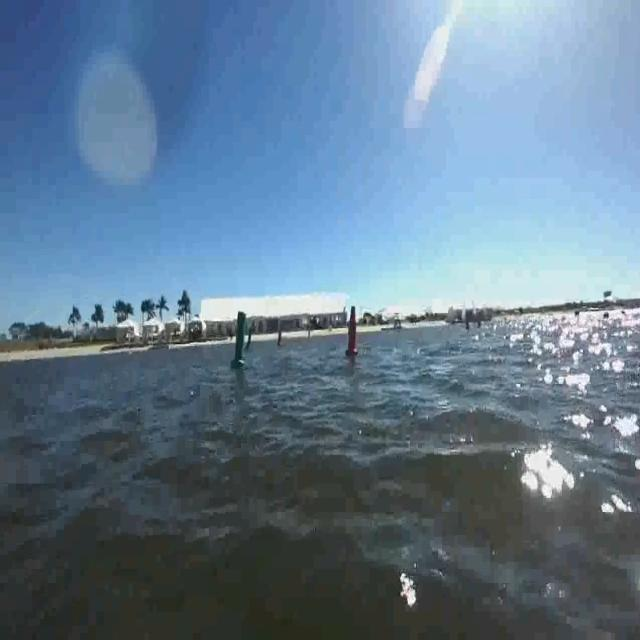green-column-buoy: (231, 310, 250, 372)
red-column-buoy: (345, 305, 362, 358)
